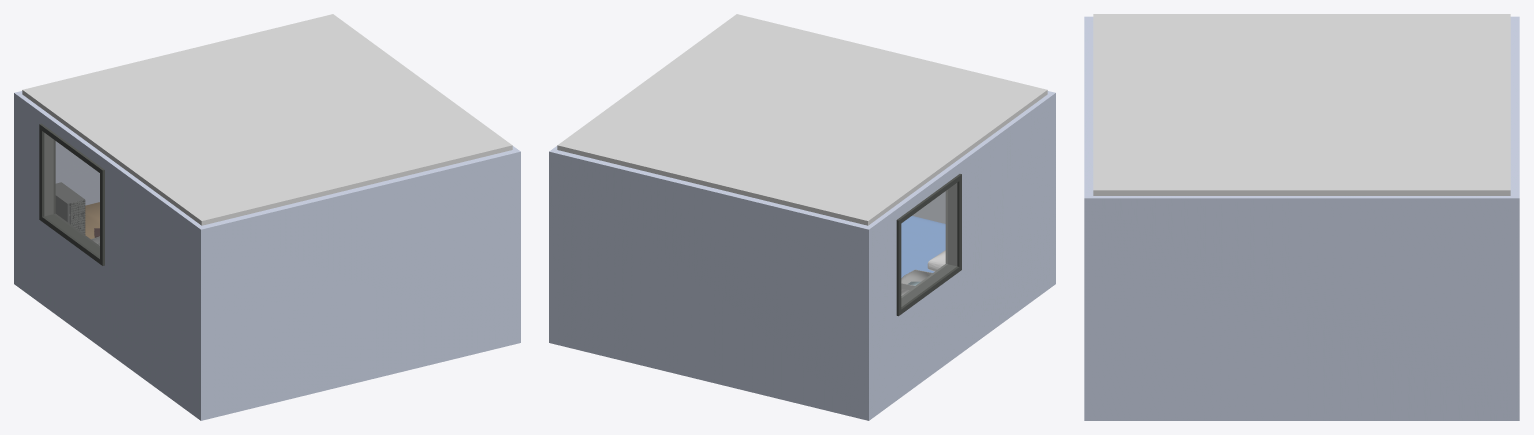
The model's file is ft_room-transformed.glb.
3 renders of one model, left to right at view 1: azimuth 30°, elevation 25°; view 2: azimuth 150°, elevation 25°; view 3: azimuth 270°, elevation 25°, orthographic. The views are drawn at different scales.
Parts seen in each view (by area): view 1: Plane.006, Cylinder, Window Glass, Plane.002, keyboard_back, table; view 2: Plane.006, Cylinder, Plane.002, Window Glass; view 3: Plane.006, Cylinder.
Part boxes in pixels (left/top/right/bottom): Plane.006: left=14, top=91, right=520, bottom=420; Cylinder: left=22, top=14, right=512, bottom=225; Window Glass: left=44, top=133, right=99, bottom=256; Plane.002: left=39, top=123, right=104, bottom=265; keyboard_back: left=55, top=182, right=84, bottom=232; table: left=85, top=202, right=99, bottom=238; Plane.006: left=549, top=91, right=1055, bottom=420; Cylinder: left=557, top=14, right=1047, bottom=225; Plane.002: left=896, top=174, right=961, bottom=316; Window Glass: left=901, top=183, right=956, bottom=306; Plane.006: left=1084, top=16, right=1519, bottom=420; Cylinder: left=1093, top=14, right=1510, bottom=195.
Size of the model in its own units: 7.05 by 4.1 by 7.09.
Materials: 13 (13 with a texture image).
